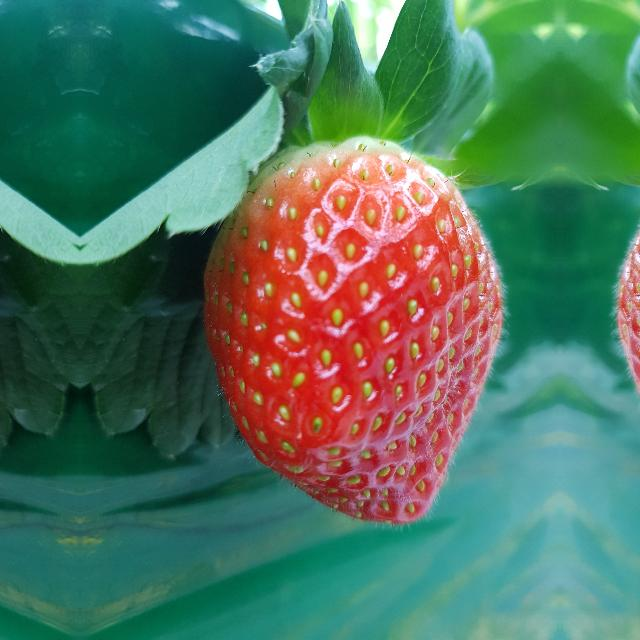Health_100: (200, 135, 506, 530)
